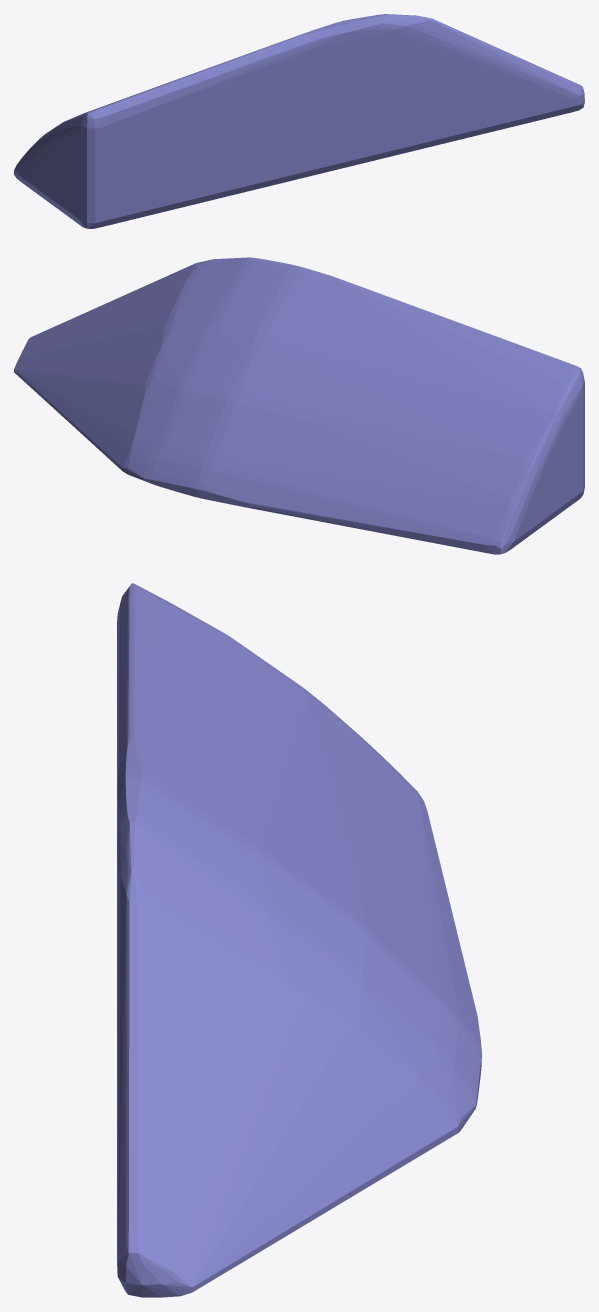
The model's file is right_shoulder_pitch_link_part_12.obj.
3 renders of one model, top to bottom at view 1: azimuth 30°, elevation 25°; view 2: azimuth 150°, elevation 25°; view 3: azimuth 270°, elevation 25°, orthographic. The views are drawn at different scales.
Size of the model in its own units: 0.0581 by 0.0162 by 0.0183.
